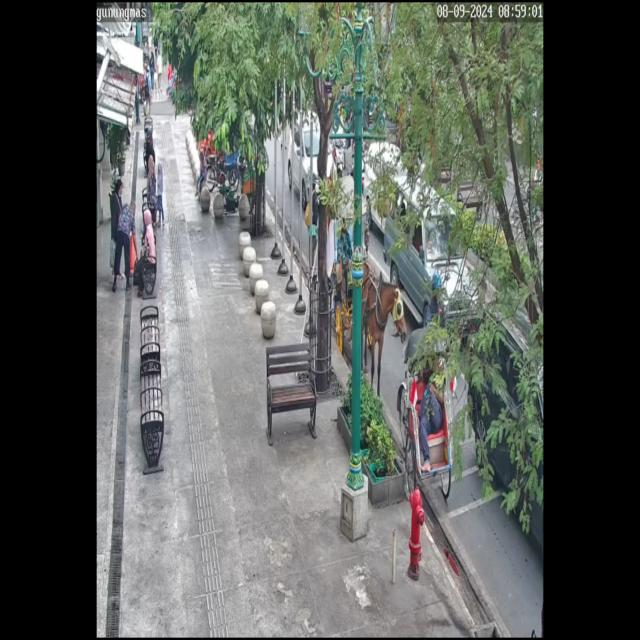Car: (469, 288, 544, 574), (381, 178, 482, 354), (282, 104, 332, 201), (368, 142, 412, 230)
